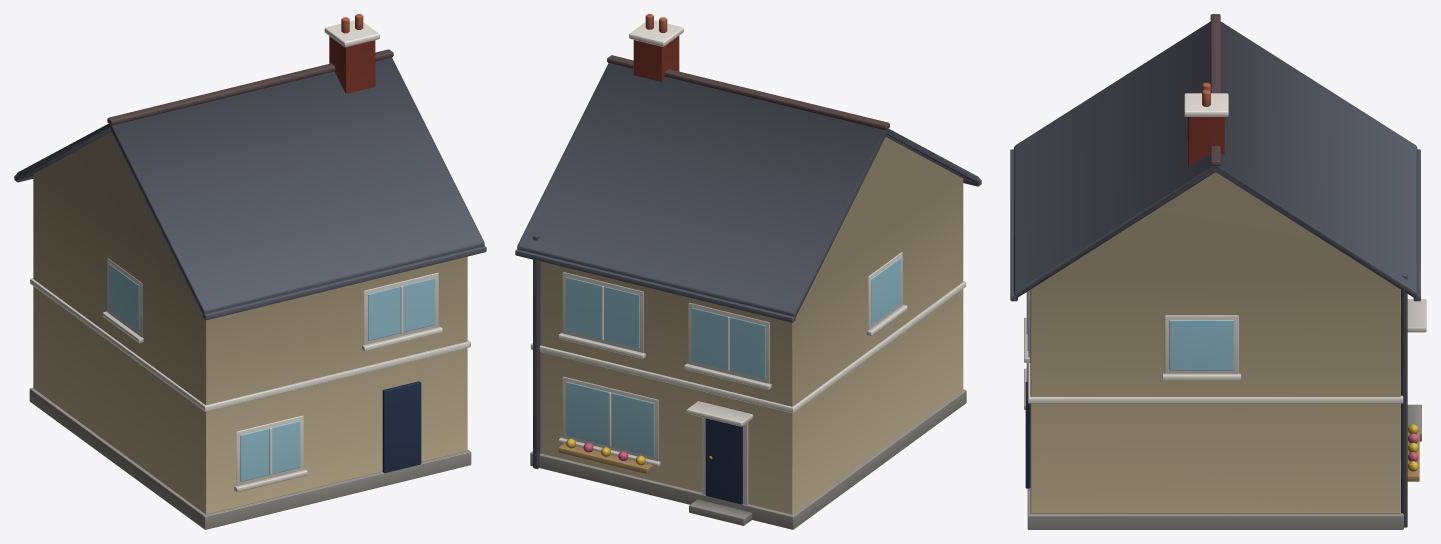
The model's file is house_a.glb.
3 renders of one model, left to right at view 1: azimuth 30°, elevation 25°; view 2: azimuth 150°, elevation 25°; view 3: azimuth 270°, elevation 25°, orthographic. The views are drawn at different scales.
Visible parts, largest first — view 1: Body, Roof; view 2: Body, Roof; view 3: Body, Roof.
Boxes of the visible parts, left/top/right/bottom form: Body: left=14, top=132, right=486, bottom=529; Roof: left=16, top=14, right=484, bottom=314; Body: left=515, top=137, right=981, bottom=529; Roof: left=517, top=14, right=979, bottom=316; Body: left=1010, top=149, right=1426, bottom=529; Roof: left=1014, top=14, right=1417, bottom=297.
Size of the model in its own units: 7.54 by 10.1 by 8.98.
Materials: 1 (1 with a texture image).
